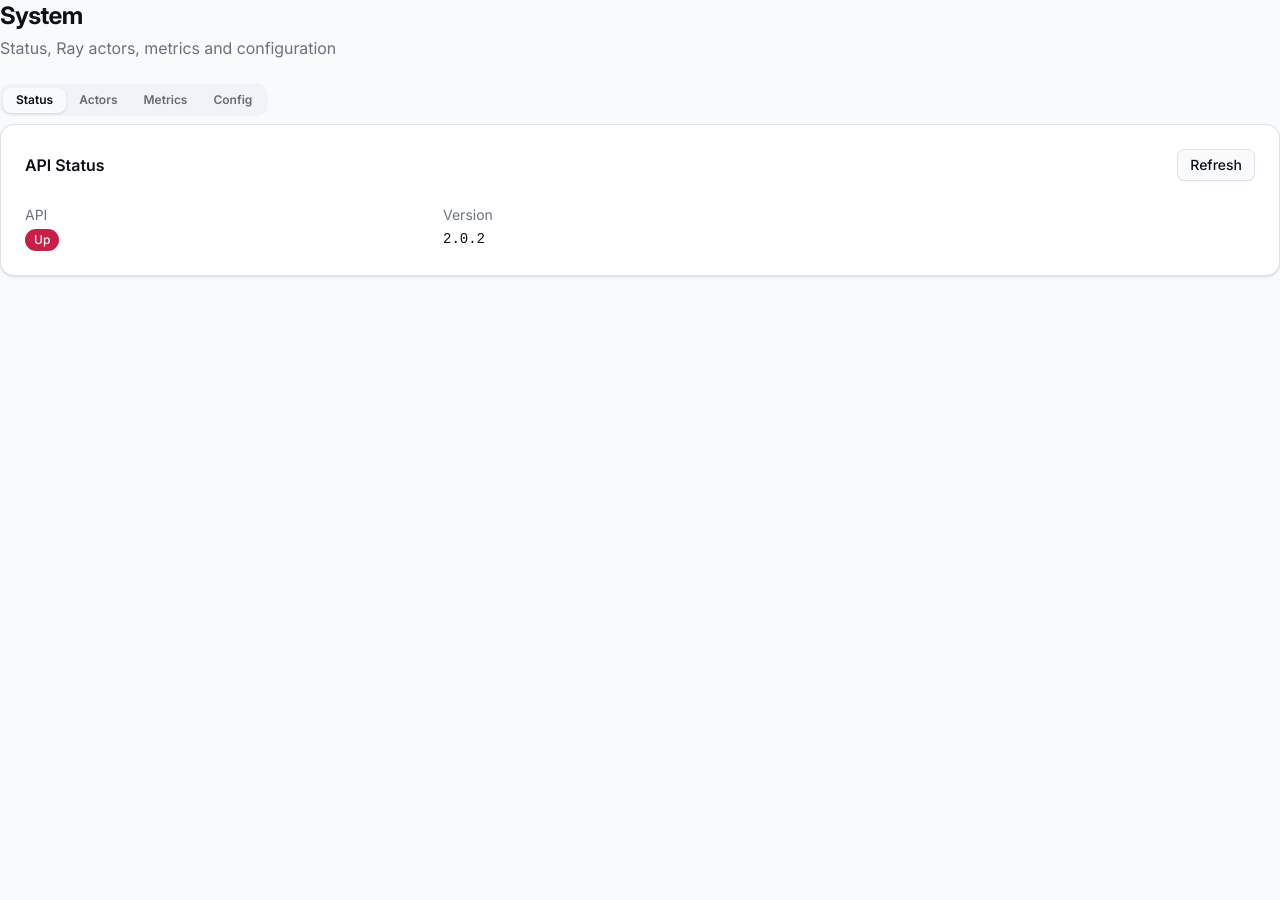
Scenario: SystemPage Grafana action › does not fall back to the build-time URL when runtime Grafana is invalid
The width and height of the screenshot is (1280, 900).
Click the tab "Metrics" at point(166, 100), box [130,88,200,112]
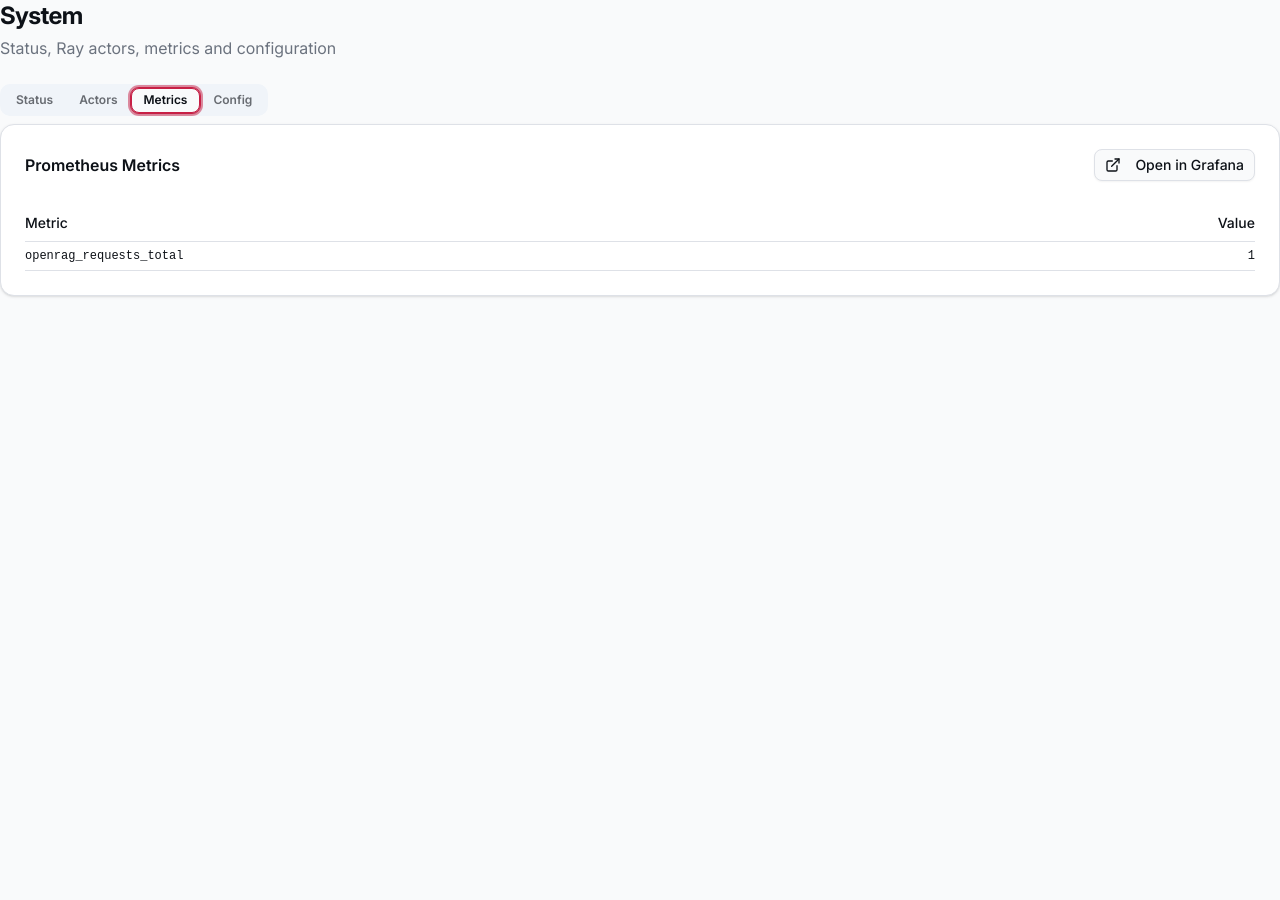
Click the button "Open in Grafana" at point(1175, 165), box [1094,149,1255,181]
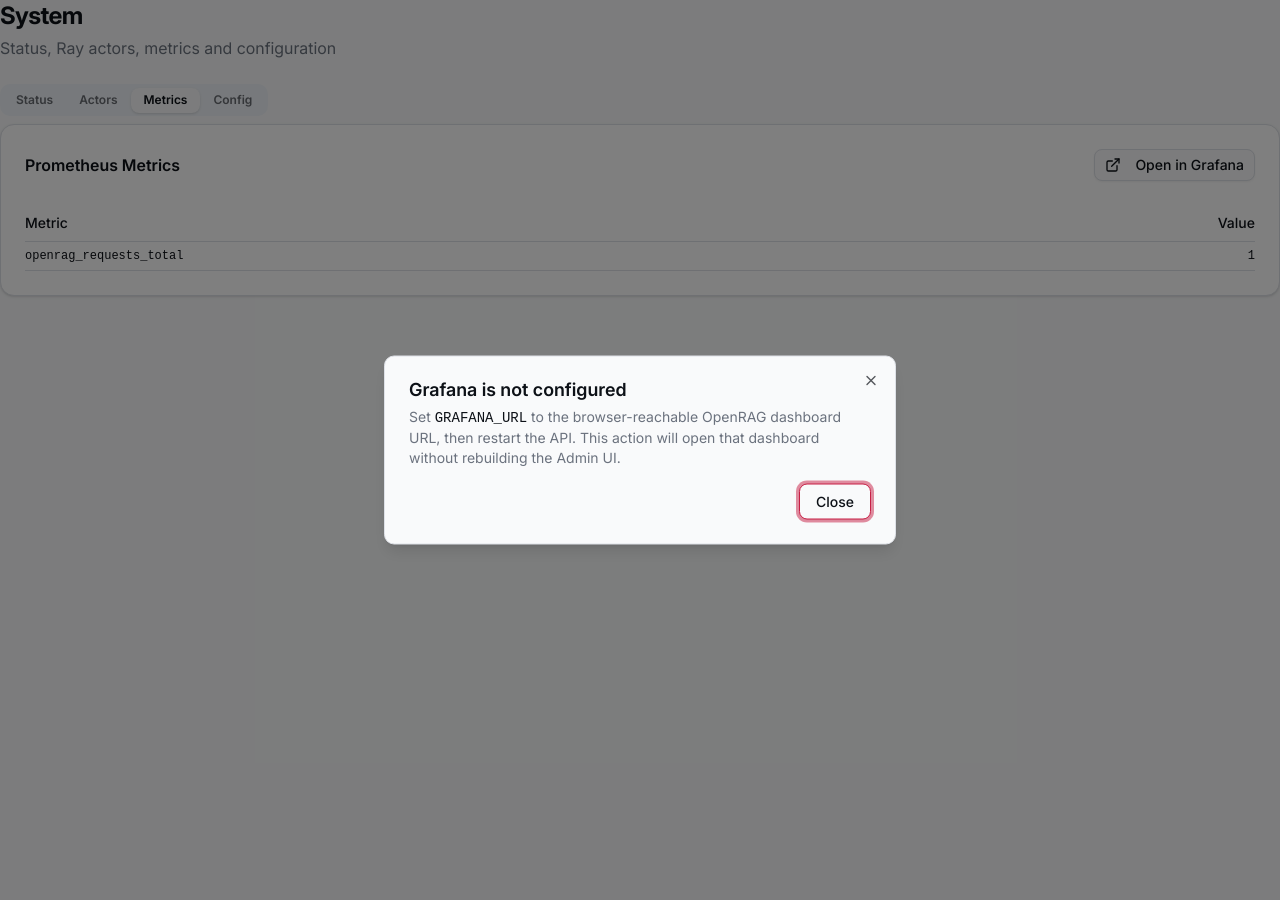
Check: the heading "Grafana is not configured" is shown, box [409,378,626,400]
